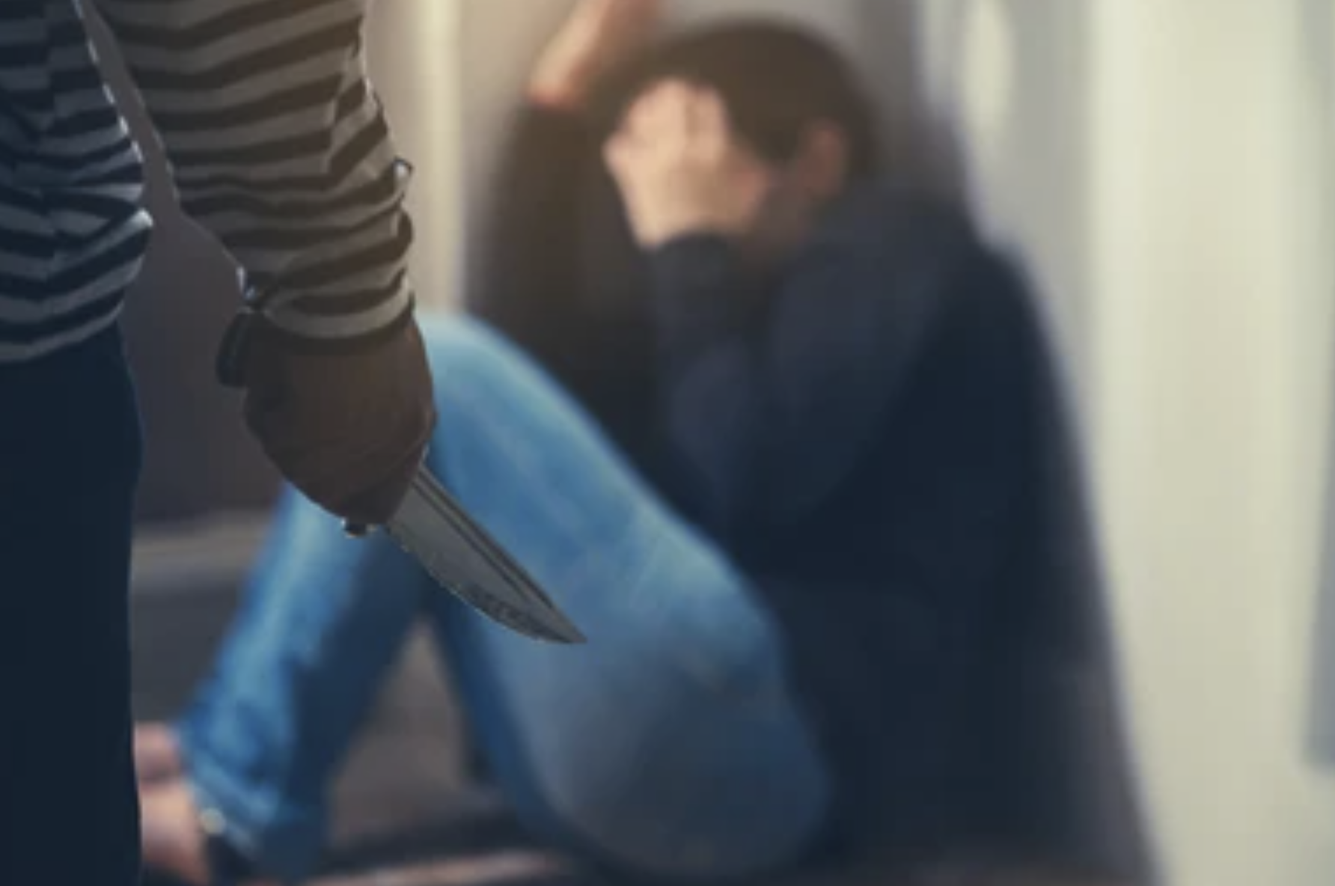knife_50.png: (192, 302, 604, 657)
